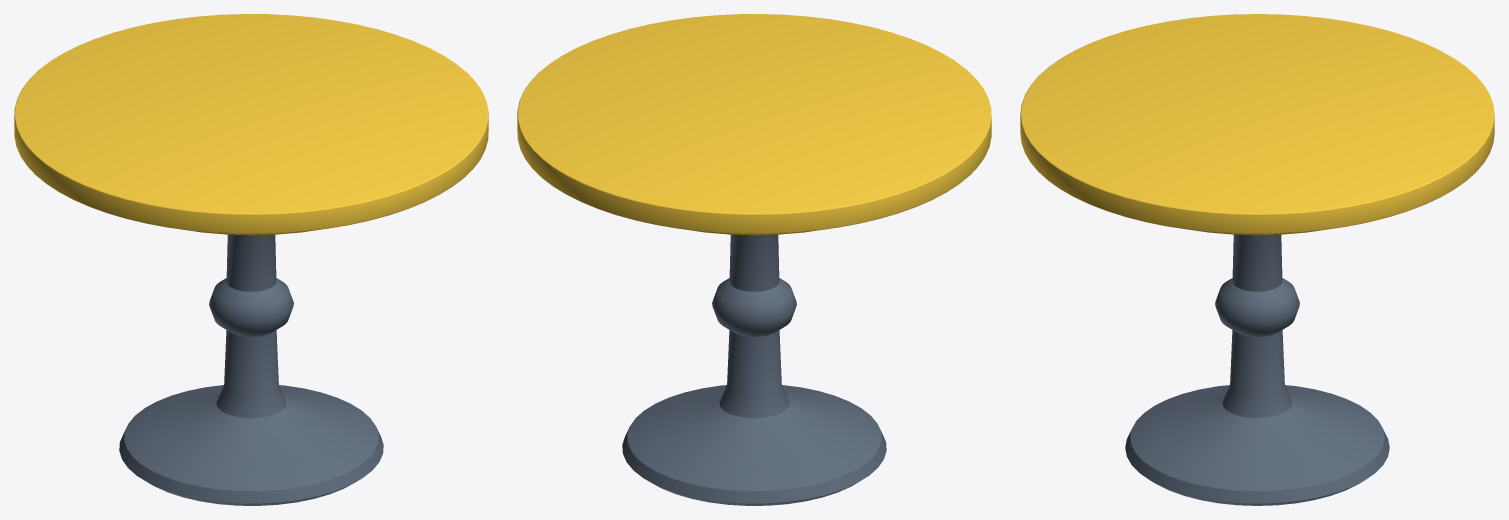
File: mesa_jantar_redonda_pedestal_amarela.glb
The picture shows the model from 3 angles, left to right: view 1: azimuth 30°, elevation 25°; view 2: azimuth 150°, elevation 25°; view 3: azimuth 270°, elevation 25°; orthographic projection.
Visible parts, largest first — view 1: mesa_jantar_redonda_pedestal_amarela; view 2: mesa_jantar_redonda_pedestal_amarela; view 3: mesa_jantar_redonda_pedestal_amarela.
Boxes of the visible parts, x1,y1,x2,y2 form: mesa_jantar_redonda_pedestal_amarela: [14, 14, 488, 505]; mesa_jantar_redonda_pedestal_amarela: [517, 14, 991, 505]; mesa_jantar_redonda_pedestal_amarela: [1020, 14, 1494, 505].
Bounding box in the file's own units: 0.95 × 0.75 × 0.95.
1 material, 1 textured.
